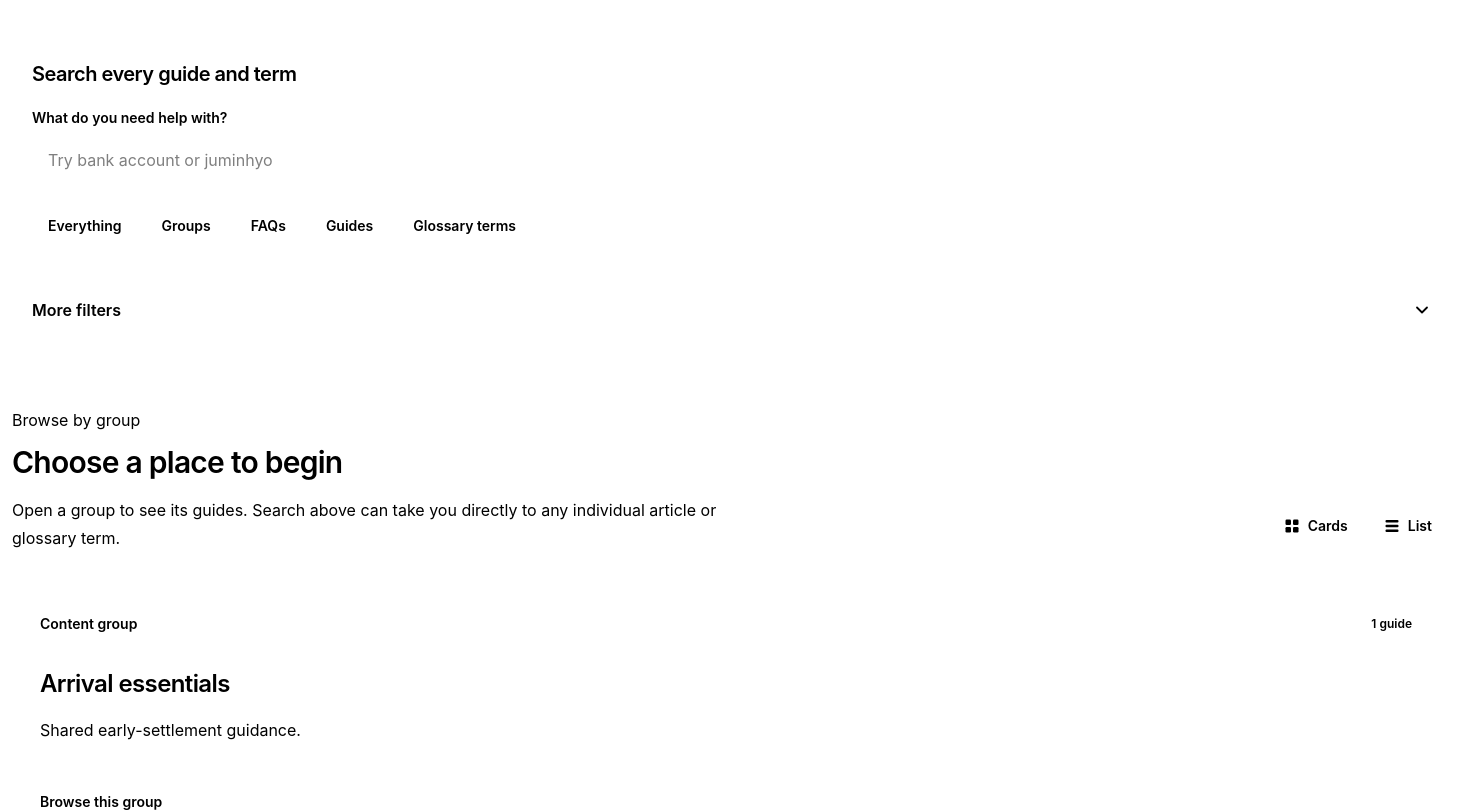
Test: ExploreDiscovery › returns individual articles without opening a group
The image size is (1464, 810).
Step 1. Type "bank account" into the search field → [732, 160], box [32,136,1432,184]
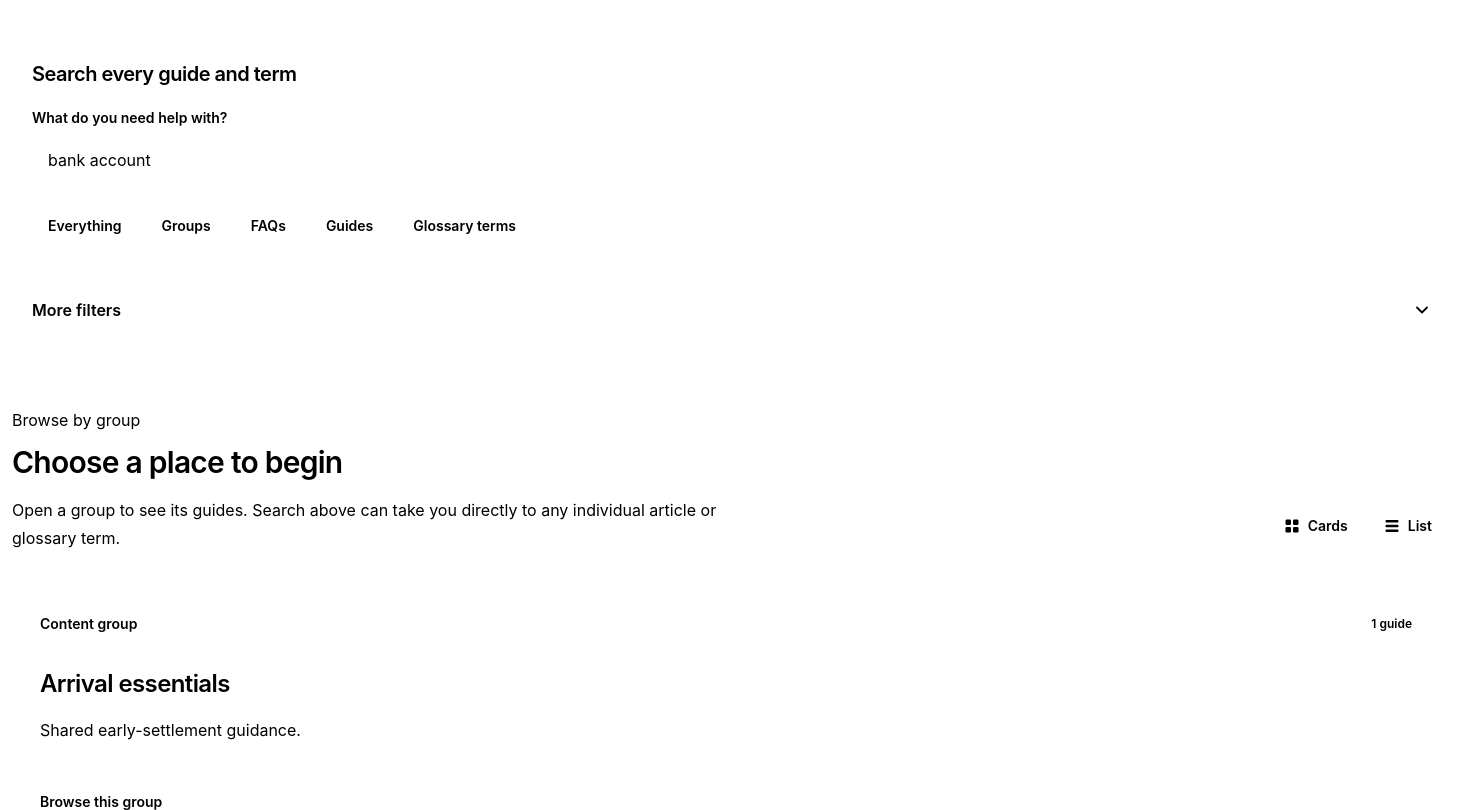
Step 2. Leave the search field, box [32,136,1432,184]
(page scrolled)
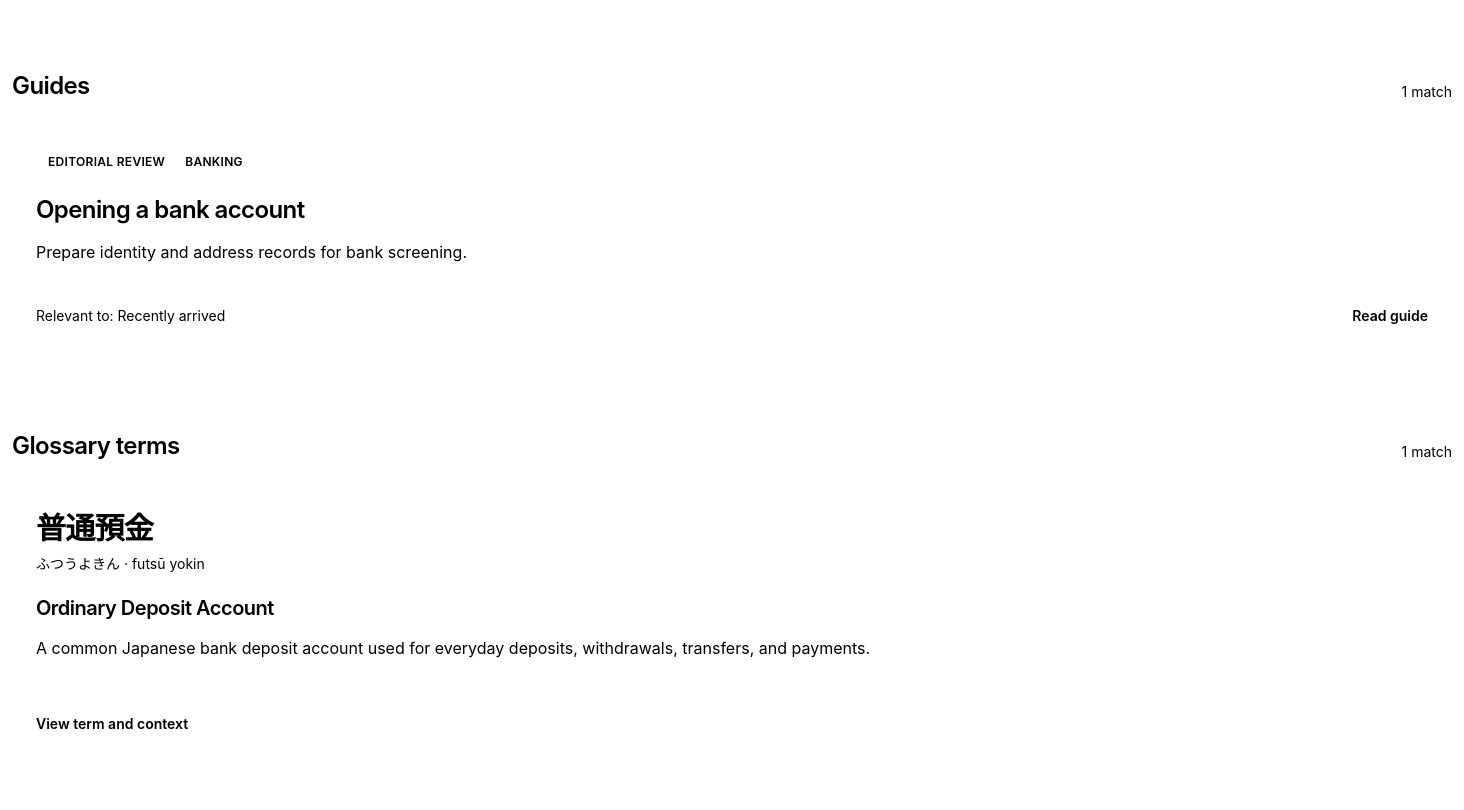
Now the link "Opening a bank account" is shown, box [36,195,304,224]
Now the heading "Guides" is shown, box [12,70,90,102]
Now the heading "Glossary terms" is shown, box [12,430,180,462]
